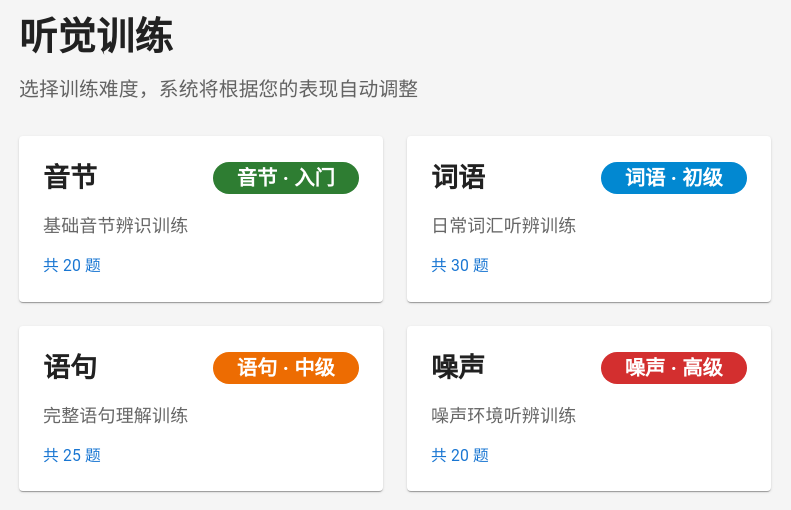
Test: TrainingPage › starts a session after selecting a training level
Click the heading "音节" at (70, 178), box [43,160,97,196]
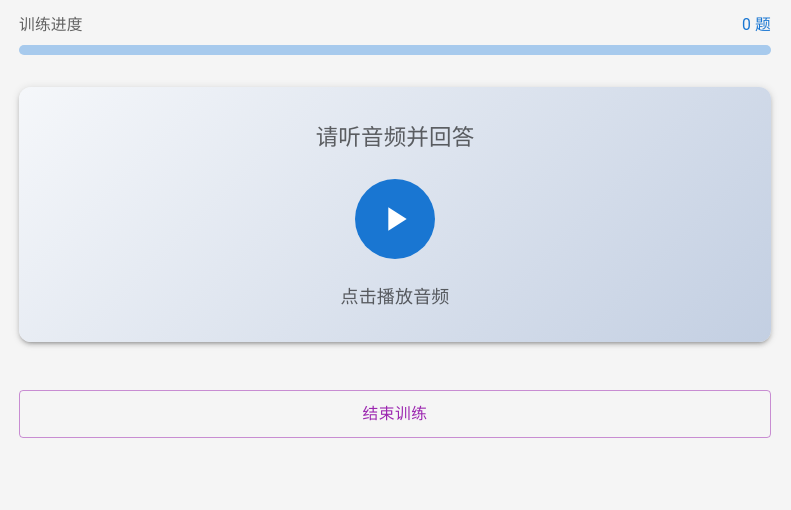
Result: the heading "请听音频并回答" is shown at [316,124,474,150]
